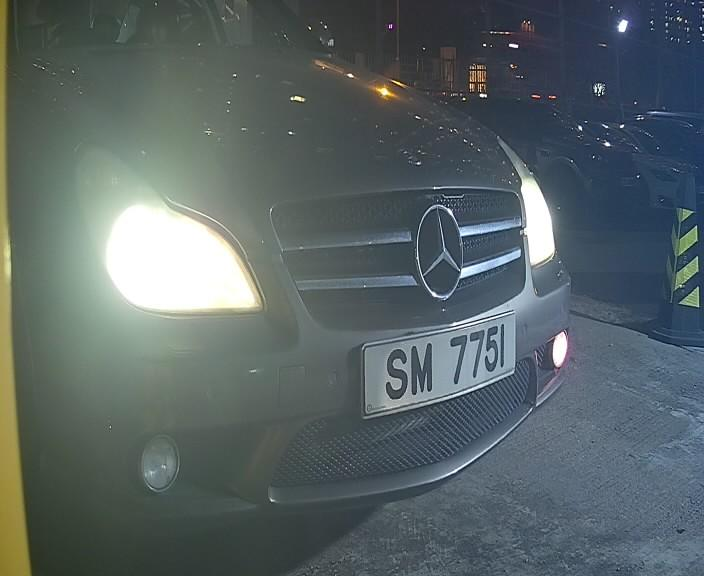License Plate: (354, 301, 524, 429)
